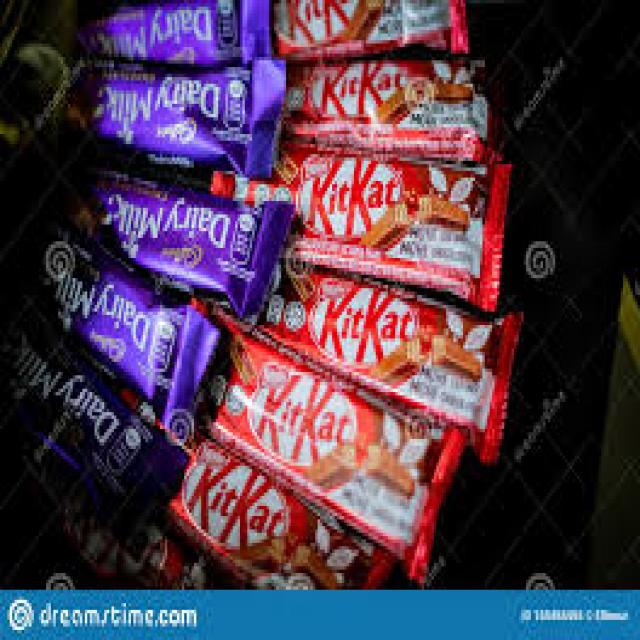kitkat: (206, 322, 457, 578), (275, 234, 526, 468), (160, 434, 389, 625), (266, 133, 508, 311), (283, 39, 498, 157)
